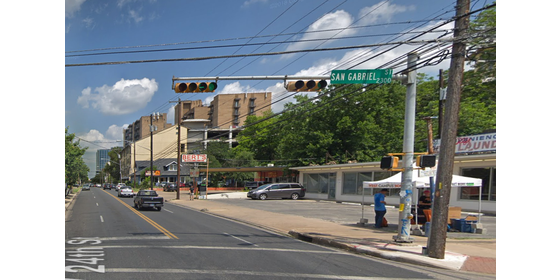street name sign: (329, 69, 394, 85)
